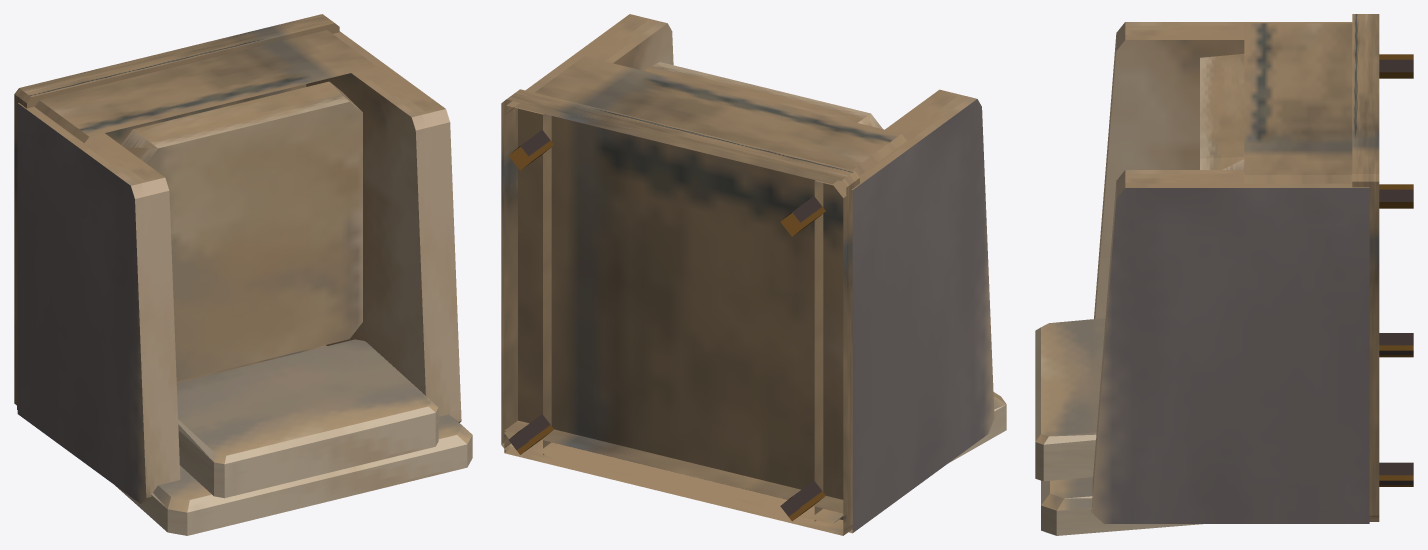
Rendered from pz_chair_seating_indoor_01_modern_white_fidelity_r1.obj.
The picture shows the model from 3 angles, left to right: view 1: azimuth 30°, elevation 25°; view 2: azimuth 150°, elevation 25°; view 3: azimuth 270°, elevation 25°; orthographic projection. The views are drawn at different scales.
Visible parts, largest first — view 1: pz_chair_seating_indoor_01_modern_white__straight_arm_-1__arm, pz_chair_seating_indoor_01_modern_white__seat_0__seat, pz_chair_seating_indoor_01_modern_white__straight_arm_1__arm, pz_chair_seating_indoor_01_modern_white__back_cushion_0__back, pz_chair_seating_indoor_01_modern_white__lower_body__body, pz_chair_seating_indoor_01_modern_white__rear_shell__back, pz_chair_seating_indoor_01_modern_white__low_plinth__body; view 2: pz_chair_seating_indoor_01_modern_white__low_plinth__body, pz_chair_seating_indoor_01_modern_white__straight_arm_-1__arm, pz_chair_seating_indoor_01_modern_white__lower_body__body, pz_chair_seating_indoor_01_modern_white__straight_arm_1__arm, pz_chair_seating_indoor_01_modern_white__rear_body_bridge__body, pz_chair_seating_indoor_01_modern_white__seat_0__seat, pz_chair_seating_indoor_01_modern_white__foot_-1_-1__frame, pz_chair_seating_indoor_01_modern_white__foot_1_-1__frame, pz_chair_seating_indoor_01_modern_white__foot_1_1__frame, pz_chair_seating_indoor_01_modern_white__foot_-1_1__frame, pz_chair_seating_indoor_01_modern_white__rear_shell__back; view 3: pz_chair_seating_indoor_01_modern_white__straight_arm_1__arm, pz_chair_seating_indoor_01_modern_white__lower_body__body, pz_chair_seating_indoor_01_modern_white__straight_arm_-1__arm, pz_chair_seating_indoor_01_modern_white__back_cushion_0__back, pz_chair_seating_indoor_01_modern_white__low_plinth__body, pz_chair_seating_indoor_01_modern_white__seat_0__seat, pz_chair_seating_indoor_01_modern_white__rear_shell__back, pz_chair_seating_indoor_01_modern_white__foot_-1_-1__frame, pz_chair_seating_indoor_01_modern_white__foot_-1_1__frame, pz_chair_seating_indoor_01_modern_white__foot_1_-1__frame, pz_chair_seating_indoor_01_modern_white__foot_1_1__frame.
Boxes of the visible parts, left/top/right/bottom form: pz_chair_seating_indoor_01_modern_white__straight_arm_-1__arm: left=17, top=103, right=180, bottom=503; pz_chair_seating_indoor_01_modern_white__seat_0__seat: left=121, top=81, right=362, bottom=381; pz_chair_seating_indoor_01_modern_white__straight_arm_1__arm: left=306, top=31, right=461, bottom=422; pz_chair_seating_indoor_01_modern_white__back_cushion_0__back: left=176, top=339, right=438, bottom=498; pz_chair_seating_indoor_01_modern_white__lower_body__body: left=34, top=30, right=379, bottom=143; pz_chair_seating_indoor_01_modern_white__rear_shell__back: left=115, top=414, right=472, bottom=535; pz_chair_seating_indoor_01_modern_white__low_plinth__body: left=14, top=14, right=339, bottom=405; pz_chair_seating_indoor_01_modern_white__low_plinth__body: left=501, top=89, right=859, bottom=532; pz_chair_seating_indoor_01_modern_white__straight_arm_-1__arm: left=814, top=89, right=994, bottom=533; pz_chair_seating_indoor_01_modern_white__lower_body__body: left=504, top=56, right=906, bottom=524; pz_chair_seating_indoor_01_modern_white__straight_arm_1__arm: left=506, top=14, right=673, bottom=454; pz_chair_seating_indoor_01_modern_white__rear_body_bridge__body: left=504, top=420, right=852, bottom=535; pz_chair_seating_indoor_01_modern_white__seat_0__seat: left=643, top=62, right=882, bottom=128; pz_chair_seating_indoor_01_modern_white__foot_-1_-1__frame: left=780, top=480, right=825, bottom=521; pz_chair_seating_indoor_01_modern_white__foot_1_-1__frame: left=508, top=414, right=553, bottom=454; pz_chair_seating_indoor_01_modern_white__foot_1_1__frame: left=508, top=130, right=553, bottom=170; pz_chair_seating_indoor_01_modern_white__foot_-1_1__frame: left=780, top=196, right=825, bottom=236; pz_chair_seating_indoor_01_modern_white__rear_shell__back: left=948, top=392, right=1006, bottom=463; pz_chair_seating_indoor_01_modern_white__straight_arm_1__arm: left=1091, top=170, right=1369, bottom=523; pz_chair_seating_indoor_01_modern_white__lower_body__body: left=1244, top=23, right=1352, bottom=183; pz_chair_seating_indoor_01_modern_white__straight_arm_-1__arm: left=1094, top=22, right=1352, bottom=318; pz_chair_seating_indoor_01_modern_white__back_cushion_0__back: left=1035, top=318, right=1105, bottom=481; pz_chair_seating_indoor_01_modern_white__low_plinth__body: left=1352, top=14, right=1379, bottom=517; pz_chair_seating_indoor_01_modern_white__seat_0__seat: left=1200, top=53, right=1244, bottom=169; pz_chair_seating_indoor_01_modern_white__rear_shell__back: left=1041, top=477, right=1202, bottom=535; pz_chair_seating_indoor_01_modern_white__foot_-1_-1__frame: left=1379, top=333, right=1413, bottom=357; pz_chair_seating_indoor_01_modern_white__foot_-1_1__frame: left=1379, top=54, right=1413, bottom=78; pz_chair_seating_indoor_01_modern_white__foot_1_-1__frame: left=1379, top=462, right=1413, bottom=486; pz_chair_seating_indoor_01_modern_white__foot_1_1__frame: left=1379, top=184, right=1413, bottom=208.
Size of the model in its own units: 0.8423 by 0.8582 by 0.8114.
1 material, 1 textured.
